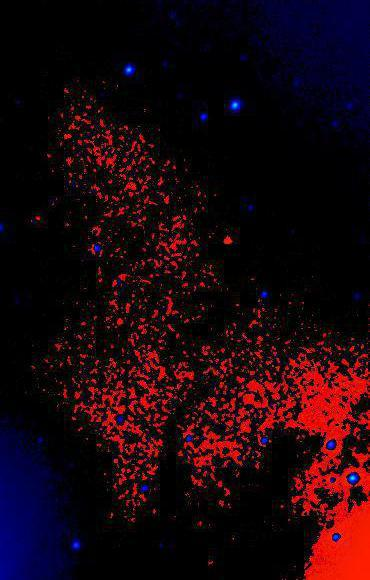star: (213, 224, 243, 254)
